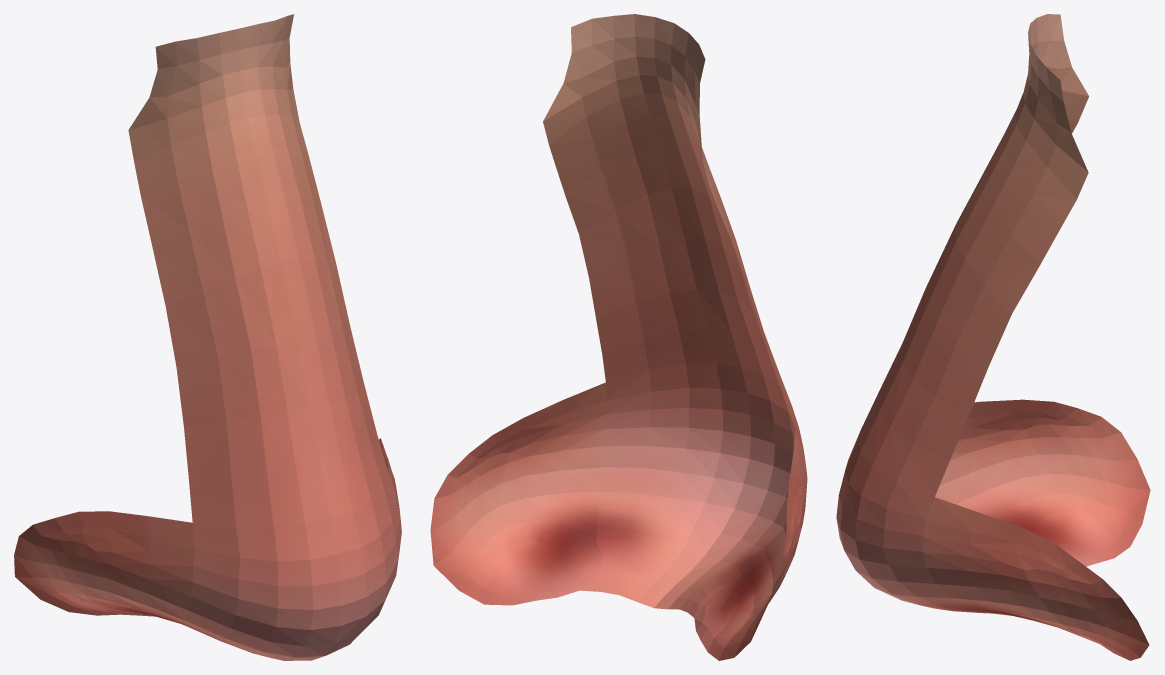
File: euro-fem-nose-sellion-up.obj
3 renders of one model, left to right at view 1: azimuth 30°, elevation 25°; view 2: azimuth 150°, elevation 25°; view 3: azimuth 270°, elevation 25°, orthographic. The views are drawn at different scales.
Parts seen in each view (by area): view 1: euro-fem-nose-sel.005; view 2: euro-fem-nose-sel.005; view 3: euro-fem-nose-sel.005.
Part boxes in pixels (x1,y1,x2,y2): euro-fem-nose-sel.005: (14, 14, 401, 660); euro-fem-nose-sel.005: (430, 14, 807, 660); euro-fem-nose-sel.005: (836, 14, 1150, 660).
Size of the model in its own units: 0.1859 by 0.3069 by 0.1499.
Materials: 1 (1 with a texture image).
